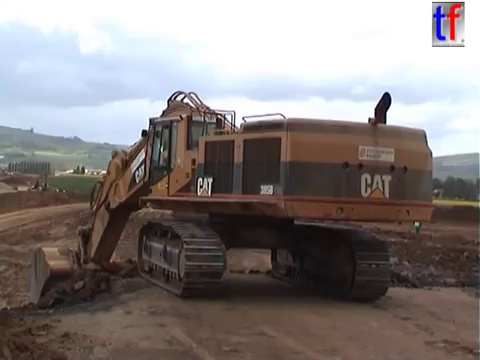excavator: (27, 87, 437, 309), (26, 177, 50, 194)
worker: (412, 210, 425, 236)
